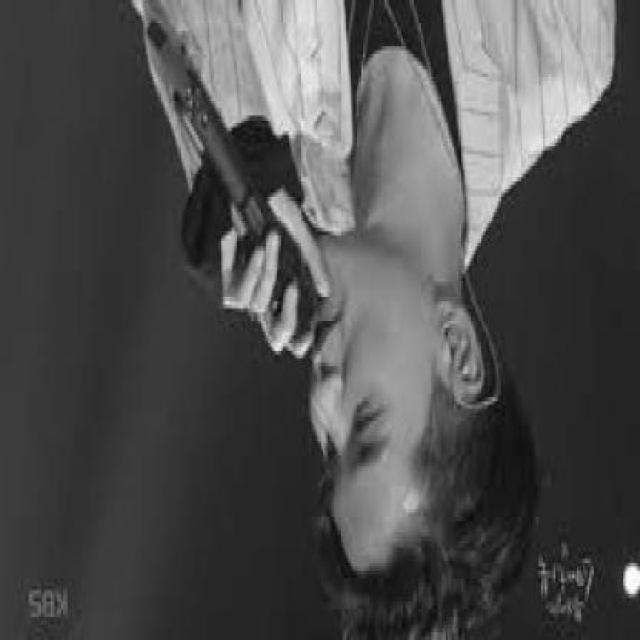earphone: (438, 323, 485, 404)
